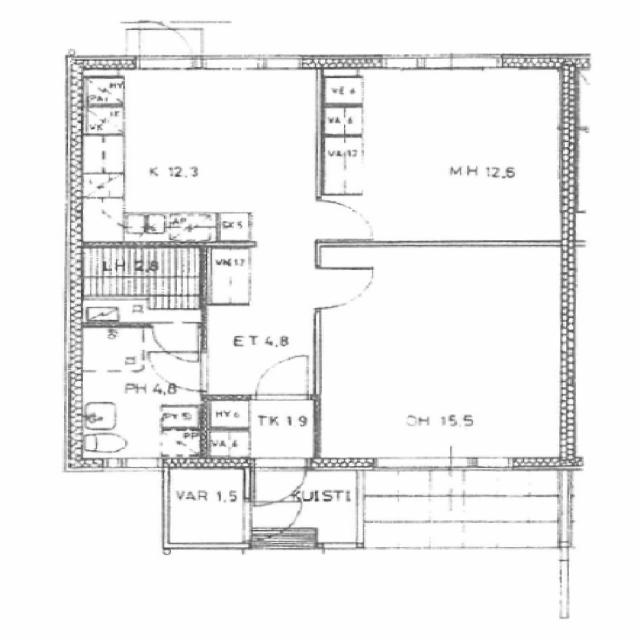door: (126, 342, 209, 440), (166, 462, 251, 551), (128, 19, 204, 73), (313, 194, 383, 246), (252, 351, 318, 404), (246, 456, 310, 509), (310, 264, 382, 310), (243, 492, 308, 541), (144, 319, 206, 361), (150, 352, 208, 395)
window: (361, 232, 561, 257), (200, 52, 306, 74), (90, 454, 167, 477)
zone: (314, 242, 577, 476), (78, 66, 324, 248), (324, 64, 572, 244), (70, 335, 208, 468), (78, 243, 204, 322), (164, 462, 250, 550)
